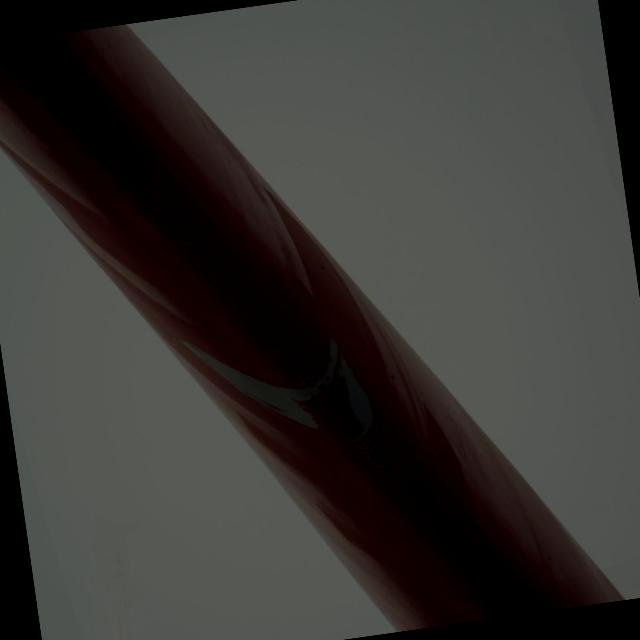surface_peeling: (176, 314, 382, 470)
